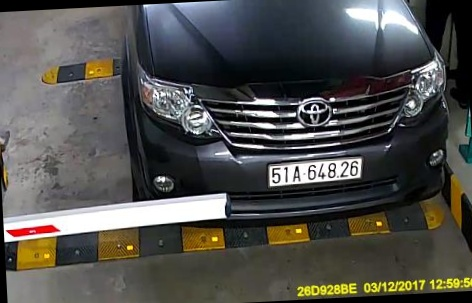plate: (256, 151, 376, 199)
